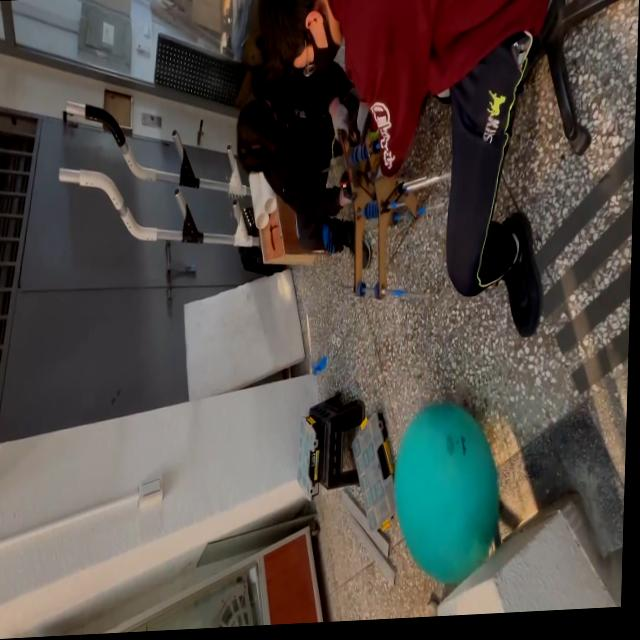ALGAE: (390, 397, 503, 589)
